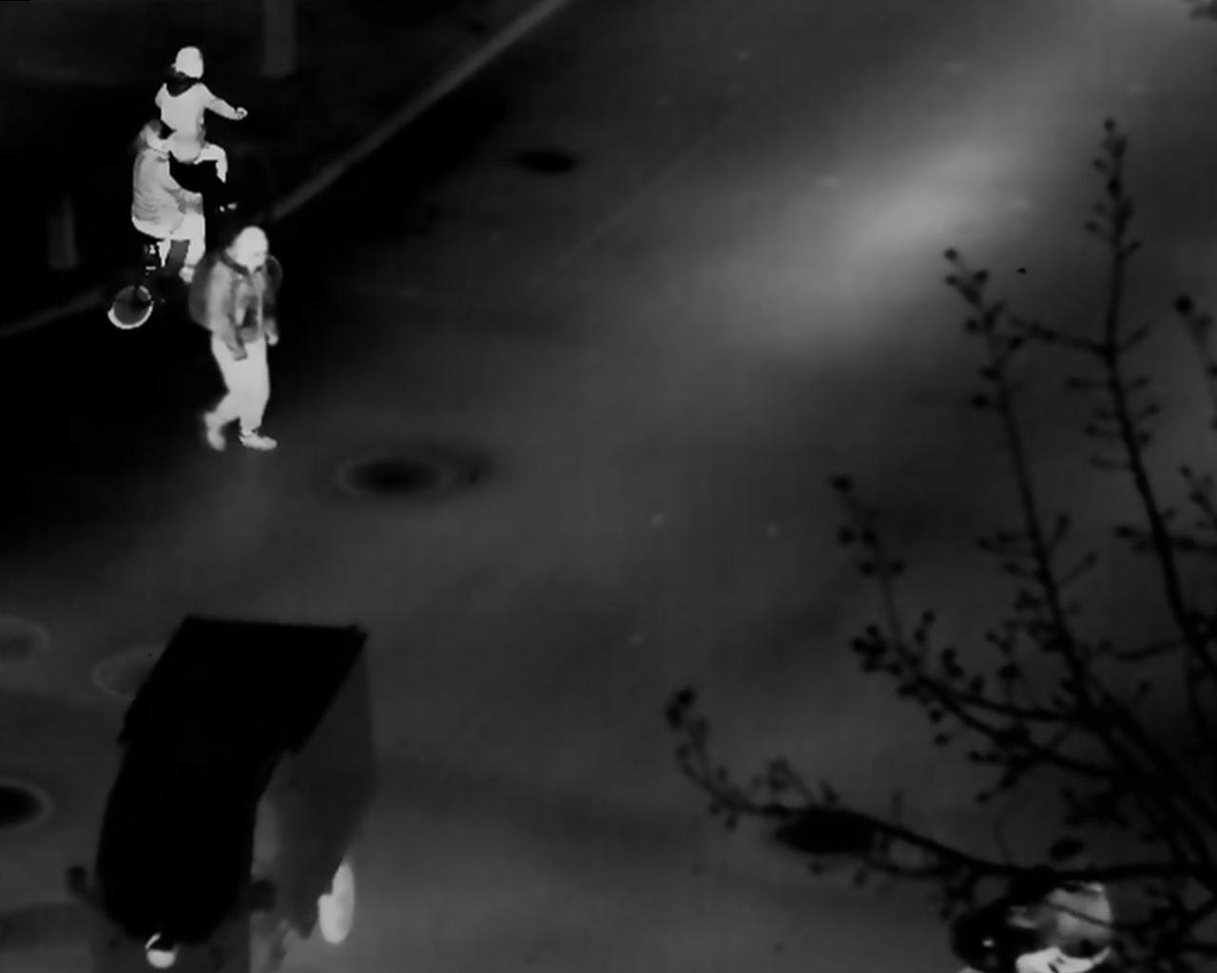person: (187, 223, 278, 453), (1006, 837, 1115, 973), (152, 45, 250, 184), (128, 118, 207, 284)
